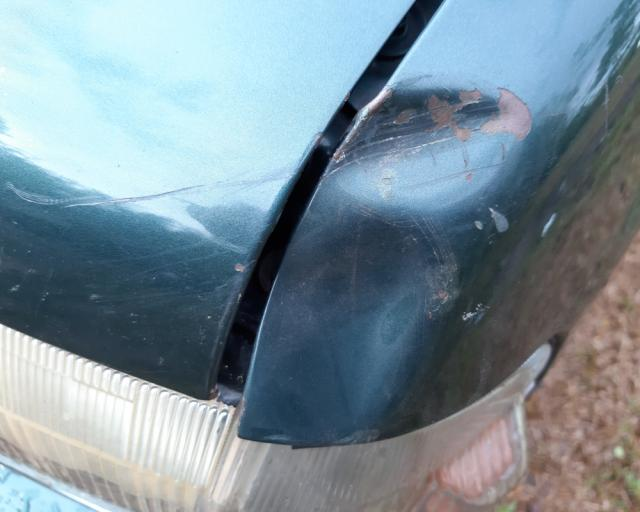dent: (261, 74, 529, 444)
scratch: (1, 167, 292, 340)
